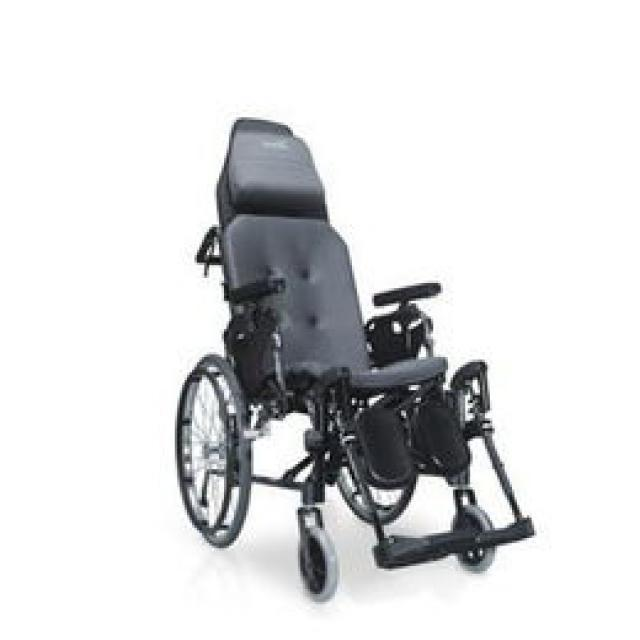wheelchair: (173, 105, 546, 600)
